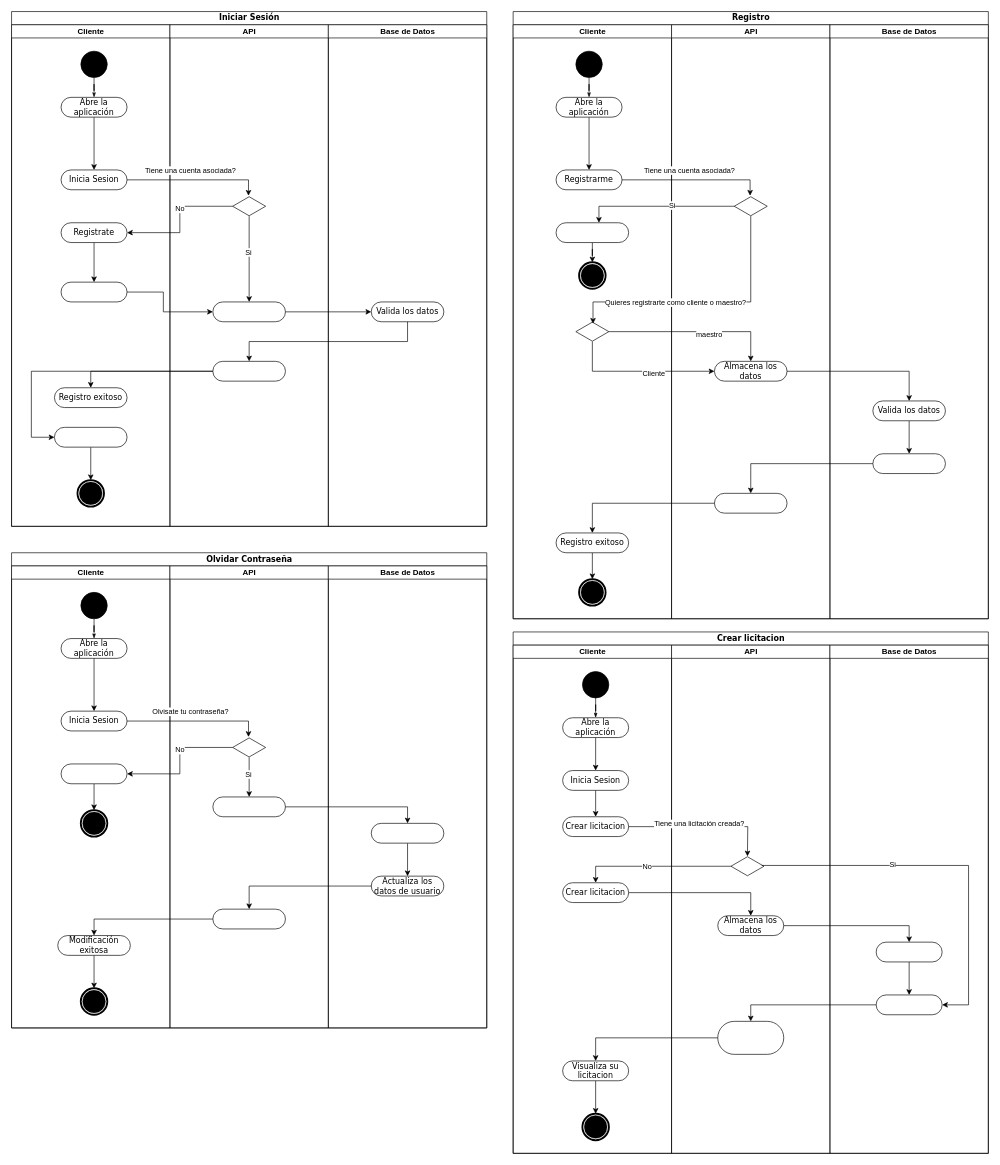
Some shapes in this 1000 by 1165 pixel diagram are drawn without their labels. Here are the shapes that lost their labels. From the top down, the centre of each, then its label:
At point (592, 232): "Iniciar sesion".
At point (93, 291): "Crea registro".
At point (248, 311): "recibe los datos".
At point (248, 371): "Notificación de confirmación".
At point (90, 437): "Inicio de sesión correcto".
At point (908, 463): "Agrega datos nuevos".
At point (750, 503): "Notificacion de confirmacion".
At point (93, 773): "Inicio de sesion exitoso".
At point (248, 806): "Solicita cambio contraseña".
At point (407, 833): "Valida la solicitud".
At point (248, 918): "Solicitud aceptada".
At point (908, 951): "Actualiza nueva licitacion".
At point (908, 1004): "Revisa licitación existente".
At point (750, 1037): "Notifica correcta creacion".
